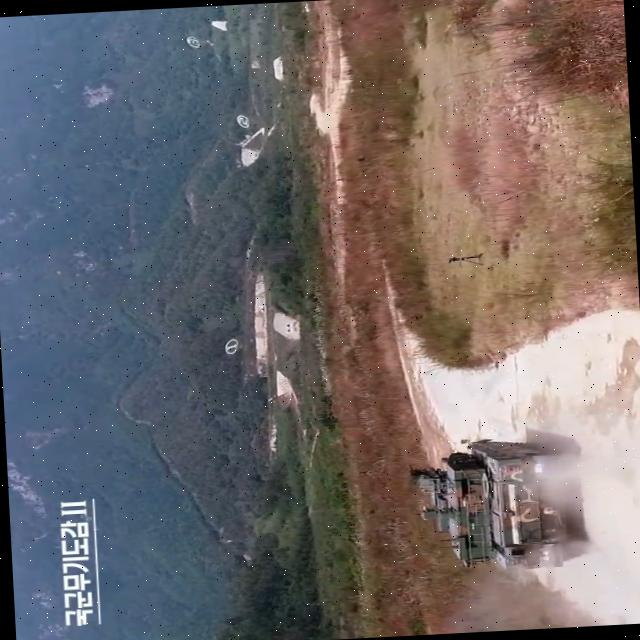korea tank: (398, 428, 594, 578)
